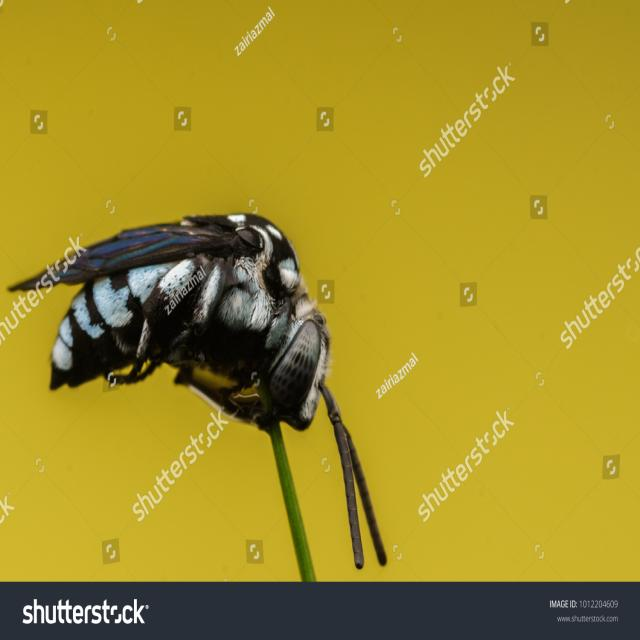Thyreus: (4, 199, 394, 578)
